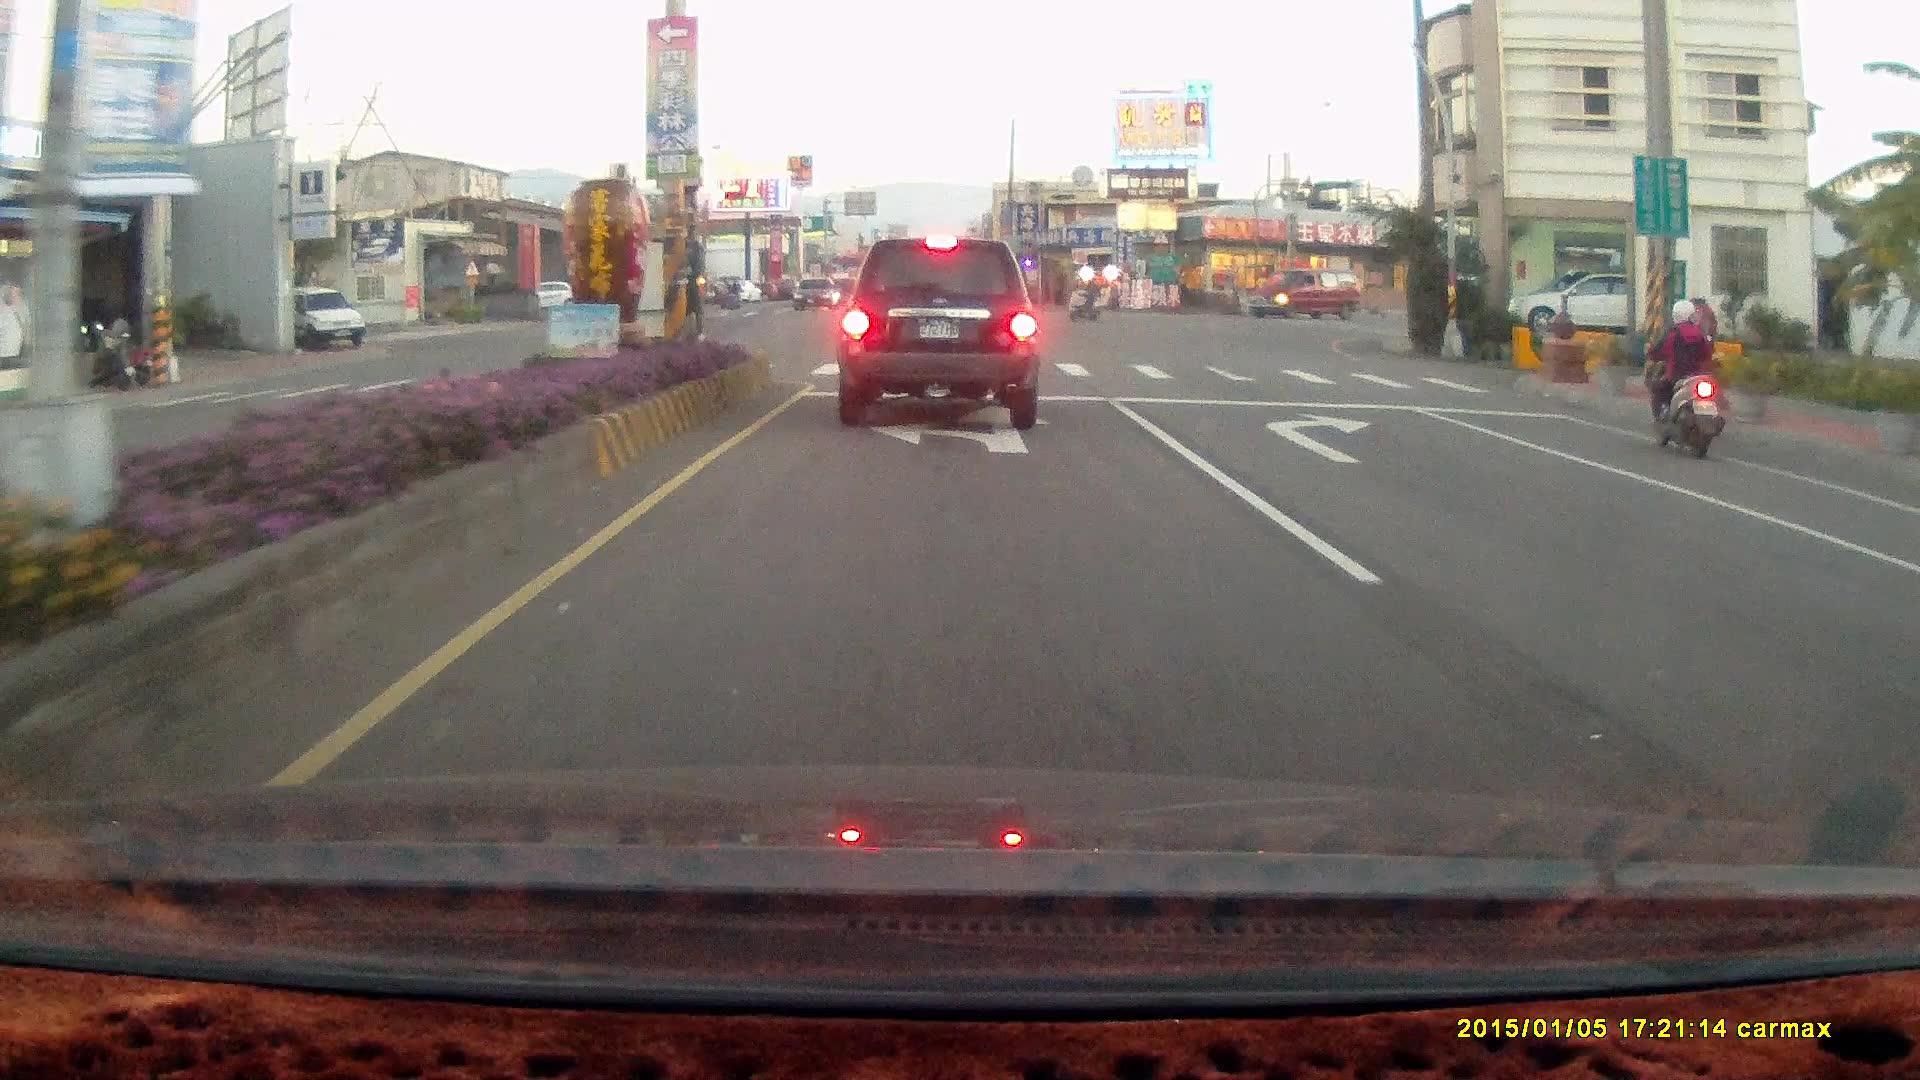rider: (1645, 296, 1724, 461), (1064, 273, 1105, 322)
vehicle: (835, 237, 1041, 429), (1505, 265, 1674, 333), (1896, 493, 1920, 836), (1517, 273, 1643, 336), (276, 283, 369, 349), (1883, 528, 1920, 690), (1248, 268, 1362, 319), (1248, 267, 1361, 317)
